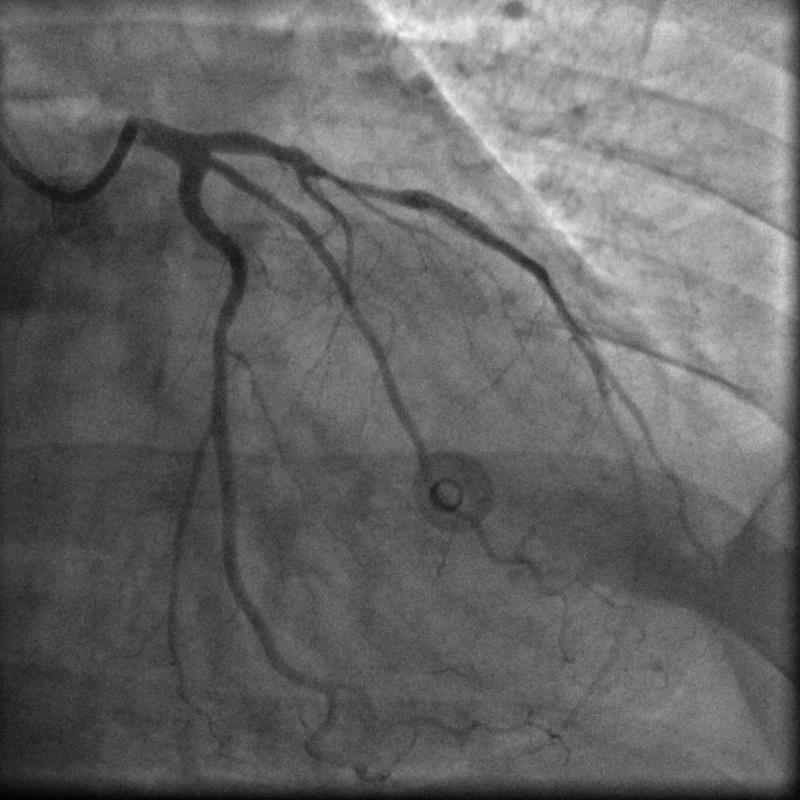Stenosis: (315, 158, 407, 206)
